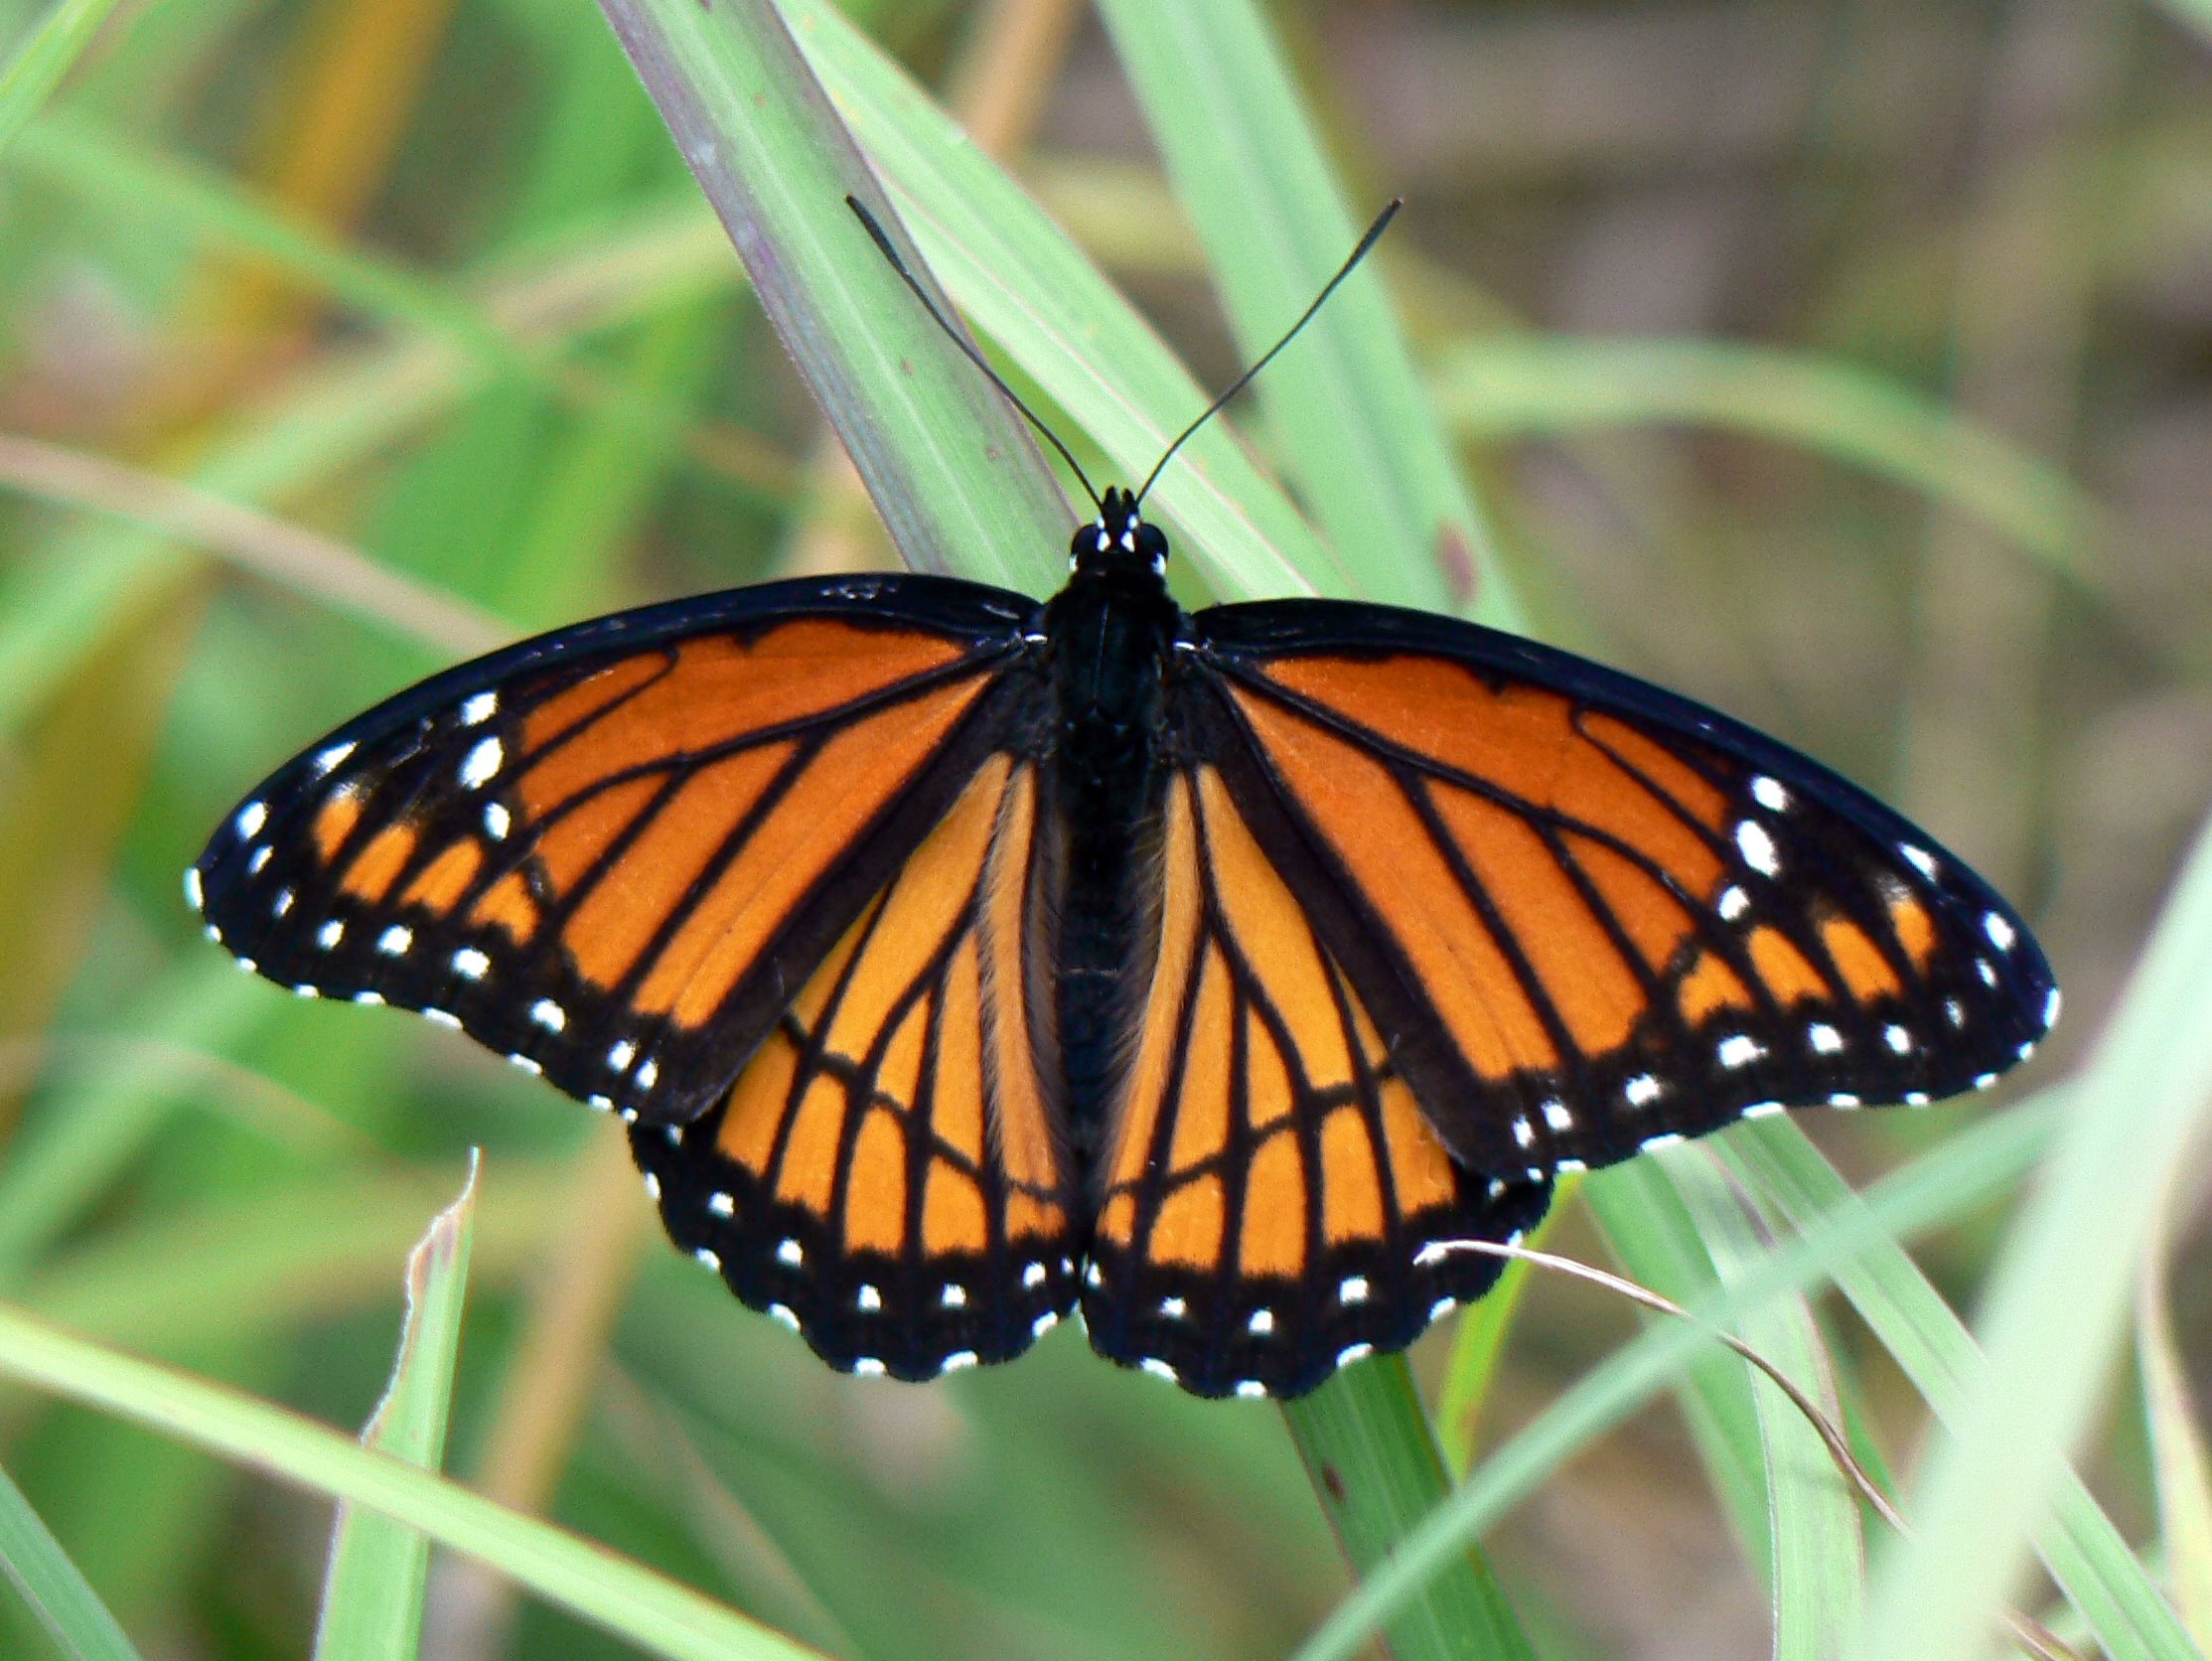Butterfly: (218, 197, 2053, 1415)
